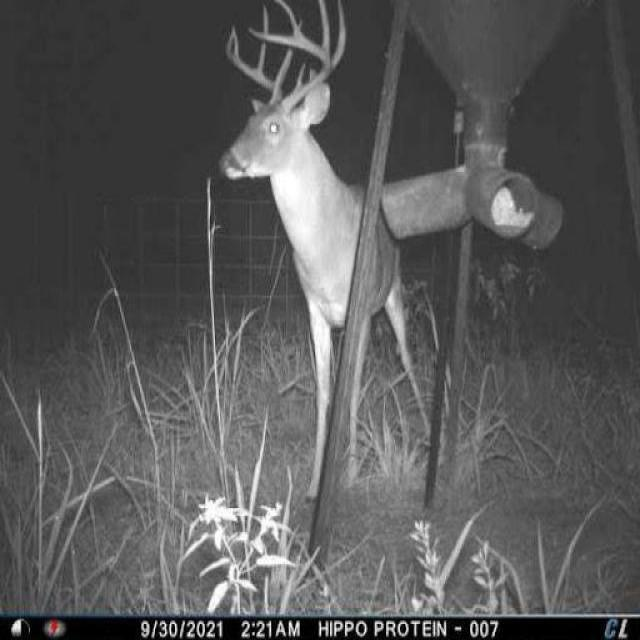deer: (211, 0, 455, 511)
